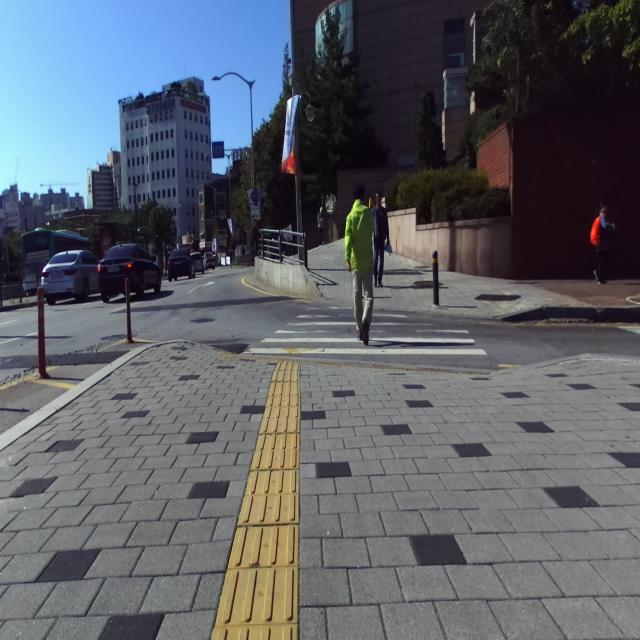횡단보도: (241, 307, 487, 355)
